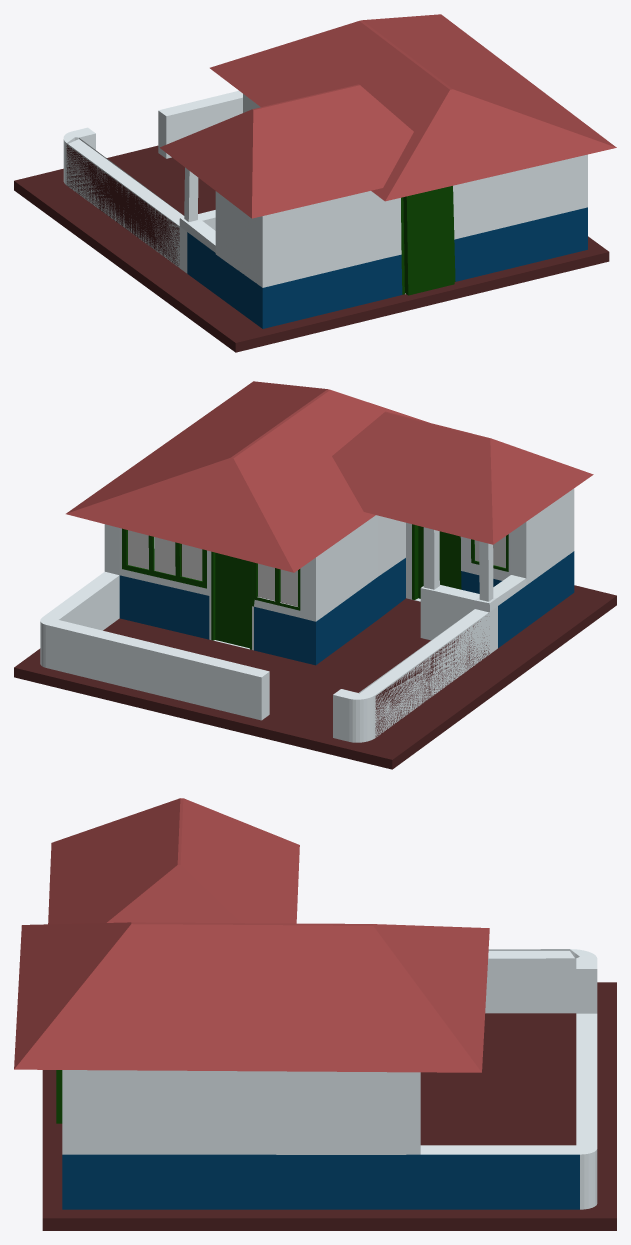
Rendered from PosKomando.fbx.
3 views of the same model, one above another, from view 1: azimuth 30°, elevation 25°; view 2: azimuth 150°, elevation 25°; view 3: azimuth 270°, elevation 25° (orthographic). The views are drawn at different scales.
Parts seen in each view (by area): view 1: Cube, Cube.001, Cube.003; view 2: Cube, Cube.001, Cube.003, Plane, Plane.001, Plane.002, Plane.005, Plane.003; view 3: Cube, Cube.001, Cube.003.
Part boxes in pixels (box(x1,y1,x2,y2)): Cube: box(14, 90, 609, 352); Cube.001: box(210, 14, 616, 201); Cube.003: box(159, 84, 413, 218); Cube: box(14, 488, 616, 769); Cube.001: box(66, 381, 427, 572); Cube.003: box(332, 411, 593, 544); Plane: box(128, 530, 148, 569); Plane.001: box(155, 537, 175, 575); Plane.002: box(182, 544, 202, 580); Plane.005: box(280, 569, 297, 606); Plane.003: box(258, 563, 274, 600); Cube: box(42, 949, 616, 1230); Cube.001: box(14, 922, 489, 1072); Cube.003: box(48, 798, 299, 924).
Bounding box in the file's own units: 3441 × 1634 × 3701.
